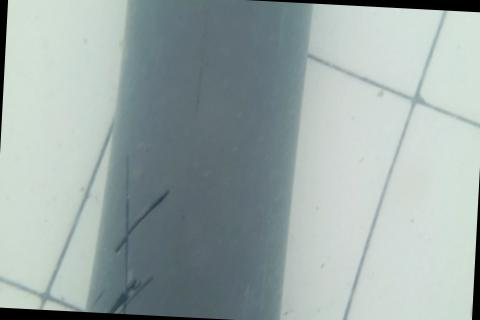keretakan: (88, 152, 174, 316)
